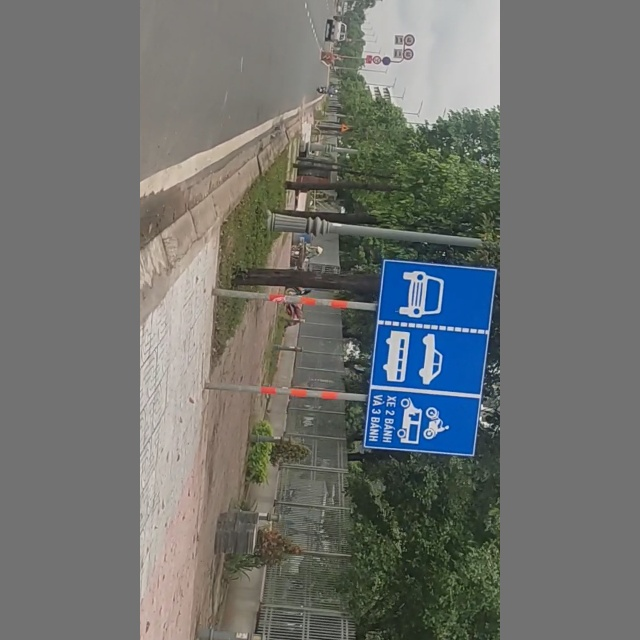R.415a: (365, 260, 488, 460)
